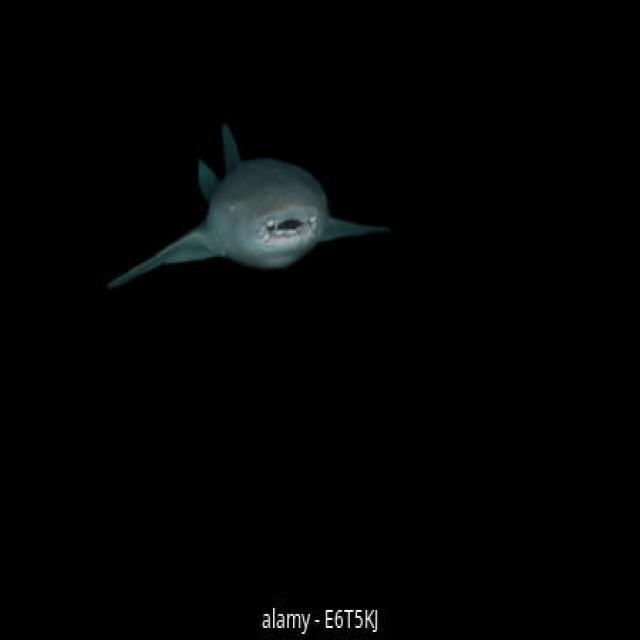Shark: (90, 100, 392, 291)
